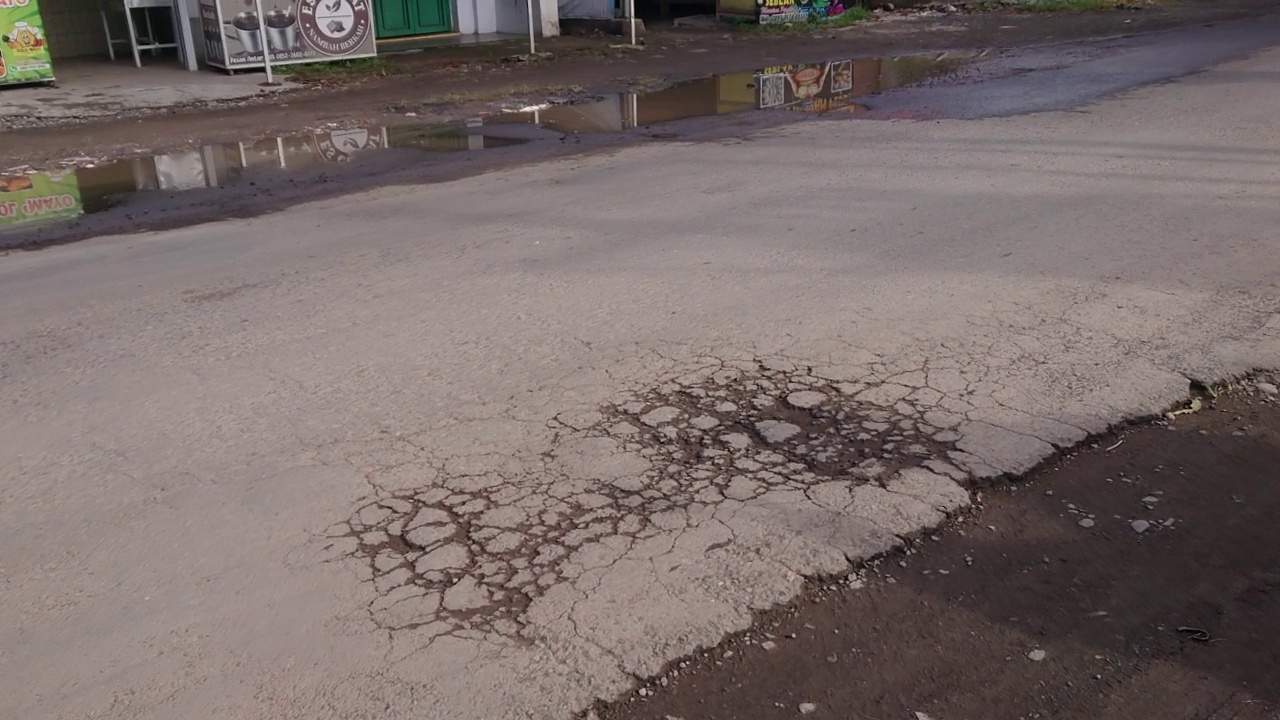Retak: (377, 379, 930, 622), (894, 313, 1188, 422)
